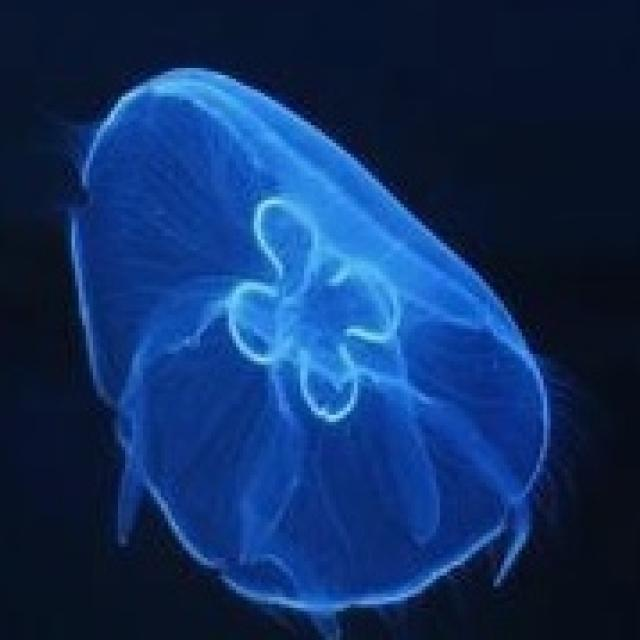Moon-jellyfish: (57, 61, 558, 633)
